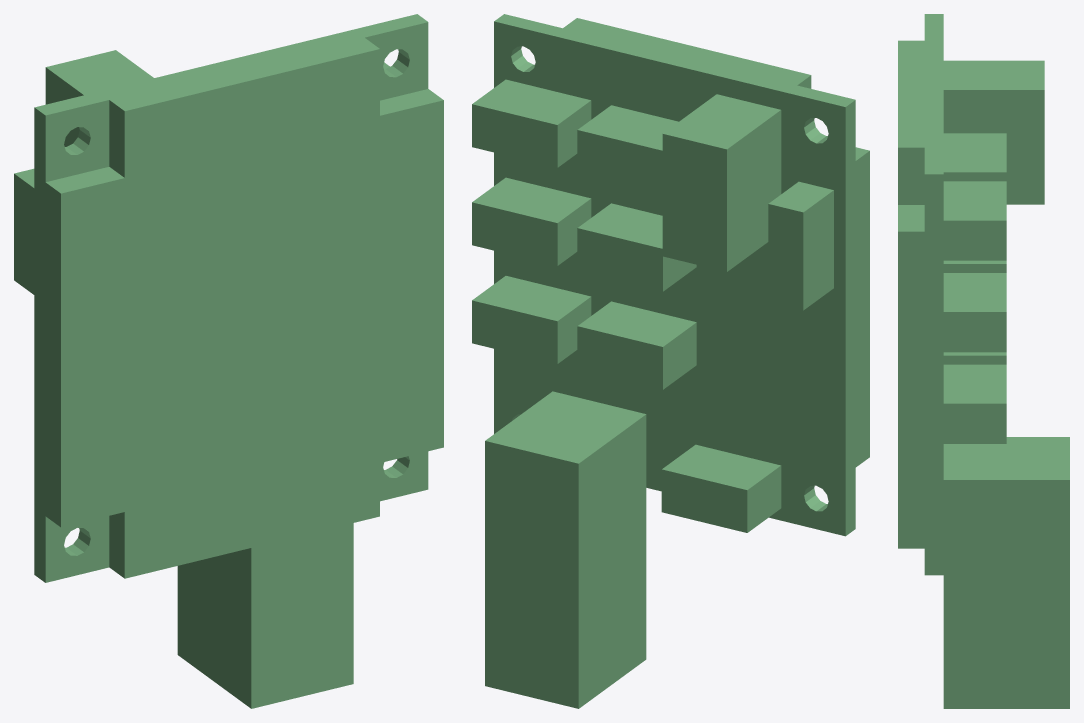
File: stm32h7_simple_revB-1.glb
3 views of the same model, side by side, from view 1: azimuth 30°, elevation 25°; view 2: azimuth 150°, elevation 25°; view 3: azimuth 270°, elevation 25° (orthographic). The views are drawn at different scales.
Parts seen in each view (by area): view 1: stm32h7_simple_revB-1; view 2: stm32h7_simple_revB-1; view 3: stm32h7_simple_revB-1.
Boxes of the visible parts, bbox=[...] form: stm32h7_simple_revB-1: bbox=[14, 14, 443, 708]; stm32h7_simple_revB-1: bbox=[472, 14, 869, 708]; stm32h7_simple_revB-1: bbox=[898, 14, 1069, 708].
Bounding box in the file's own units: 0.03 × 0.049 × 0.0136.
